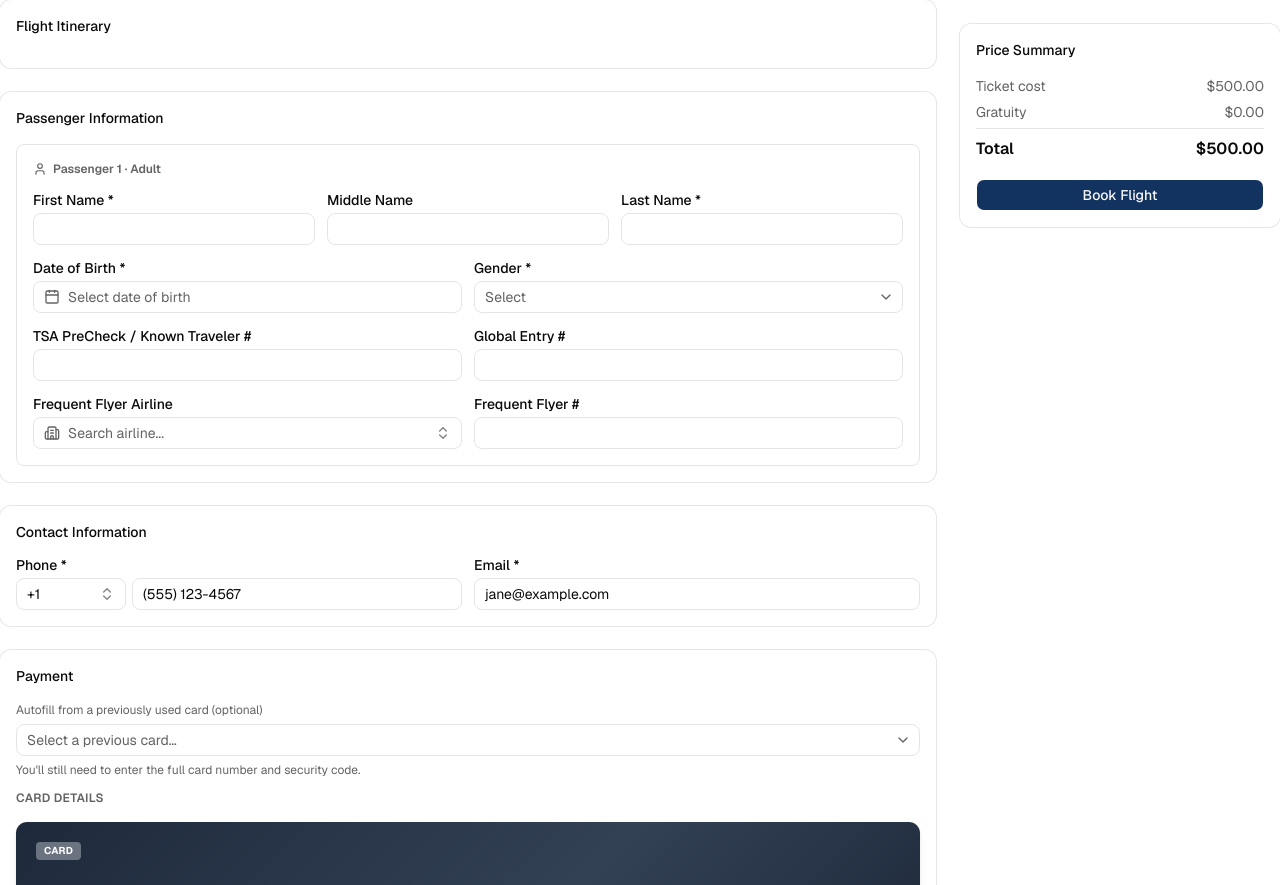
Test: BookingFlow — previous card selector (Pass 25) — masked-only, never the card number/CVV › selecting a previous card autofills ONLY cardholder name and expiry — the card number field stays empty
The width and height of the screenshot is (1280, 885).
What coordinates should you click on to do the following:
click the dropdown named "autofill from a previously used card"
I would click on:
 (102, 740)
Its box is [16,724,920,756].
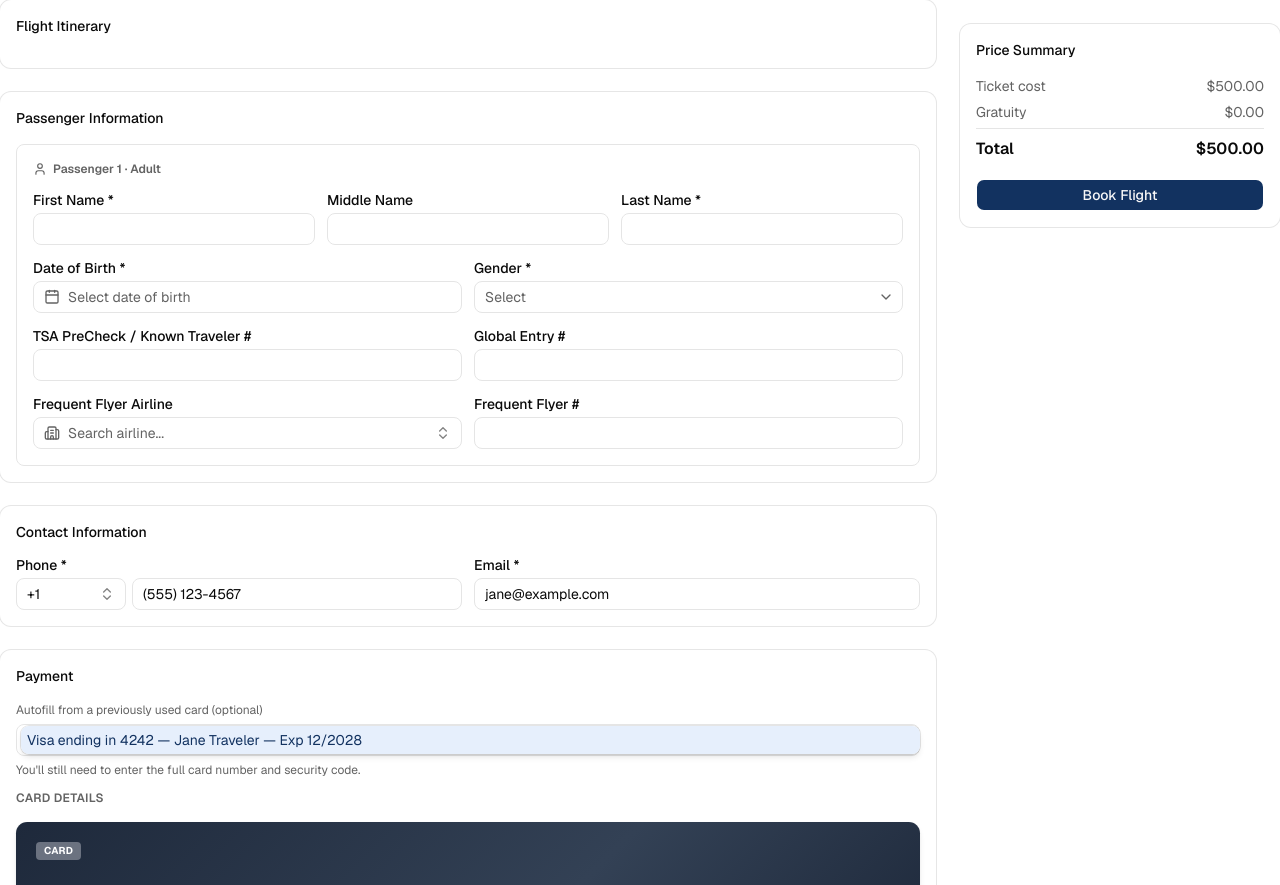
What coordinates should you click on to do the following:
click the option "Visa ending in 4242 — Jane Traveler — Exp 12/2028"
I would click on:
 (87, 740)
Its box is [21,726,920,754].
(page scrolled)
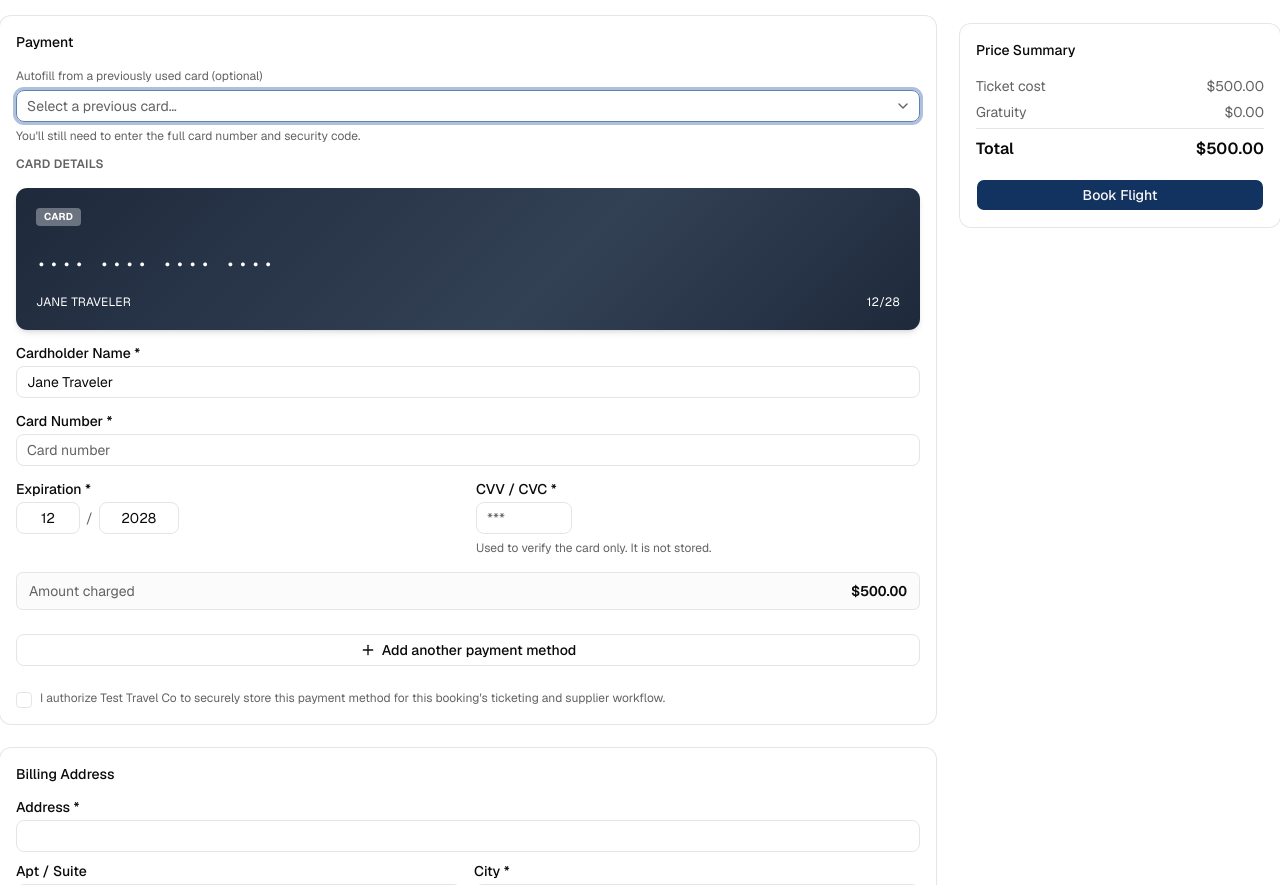
Result: the field showing "Jane Traveler" below "Cardholder Name *" is shown at [16,366,920,398]
Result: the 2nd field showing "12" is shown at [16,502,80,534]
Result: the 3rd field showing "2028" is shown at [99,502,179,534]
